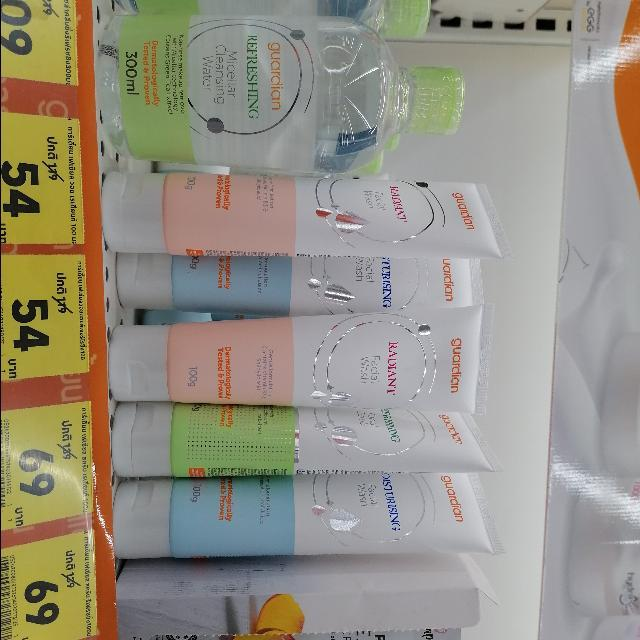Squeeze Tube: (88, 1, 515, 640), (111, 305, 491, 417), (102, 166, 506, 267), (119, 478, 508, 556), (111, 407, 499, 472)
